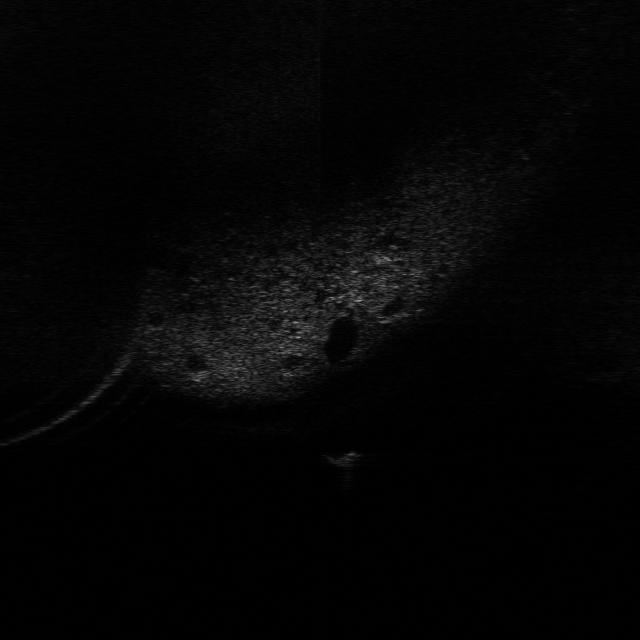cube: (318, 446, 364, 471)
